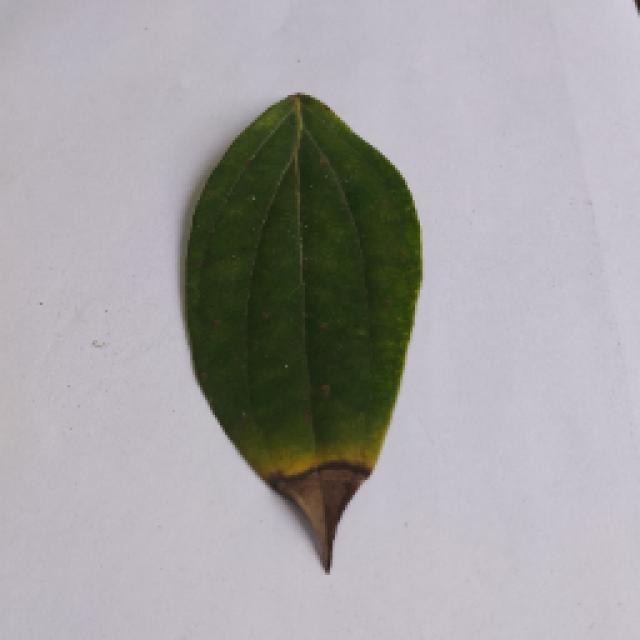footrot: (175, 93, 423, 575)
